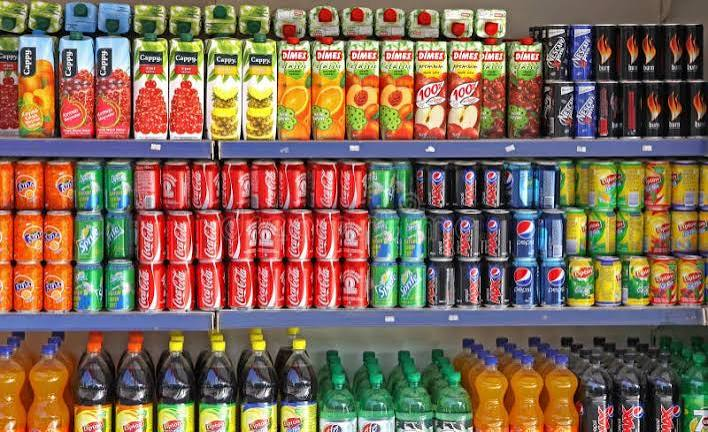Shelf: (3, 139, 706, 156)
